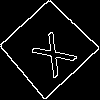X: (23, 23, 79, 80)
